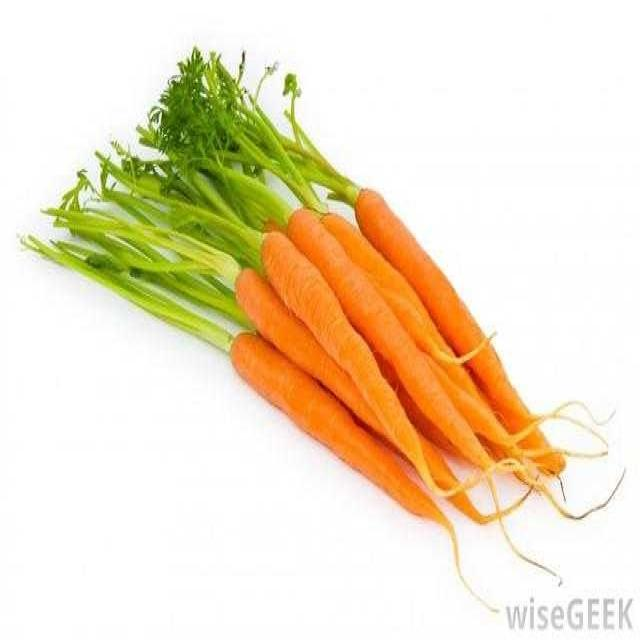carrots: (352, 186, 560, 465), (218, 334, 451, 534), (251, 227, 411, 463)
